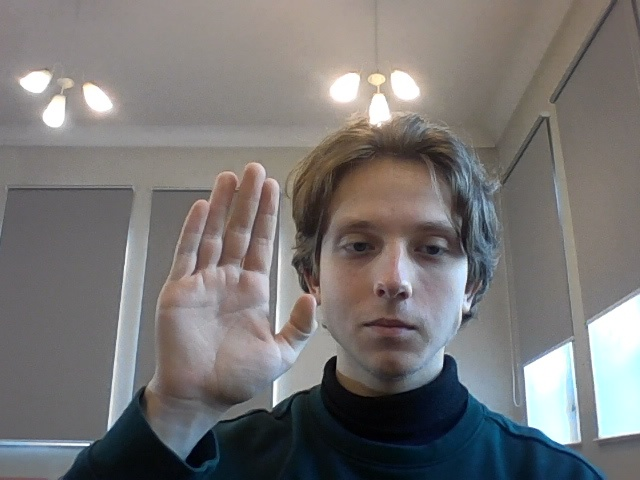hello: (148, 159, 330, 422)
